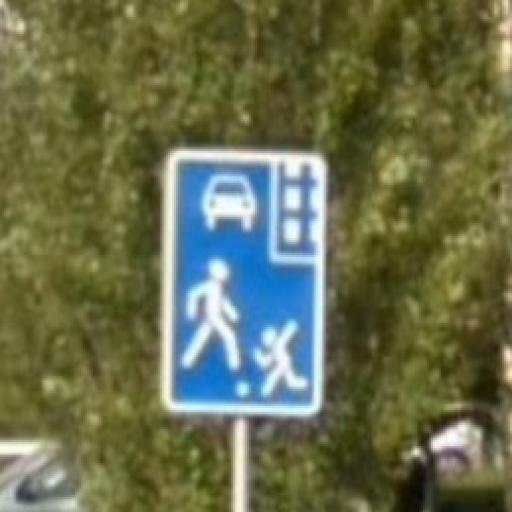traffic_sign: (161, 150, 329, 420)
